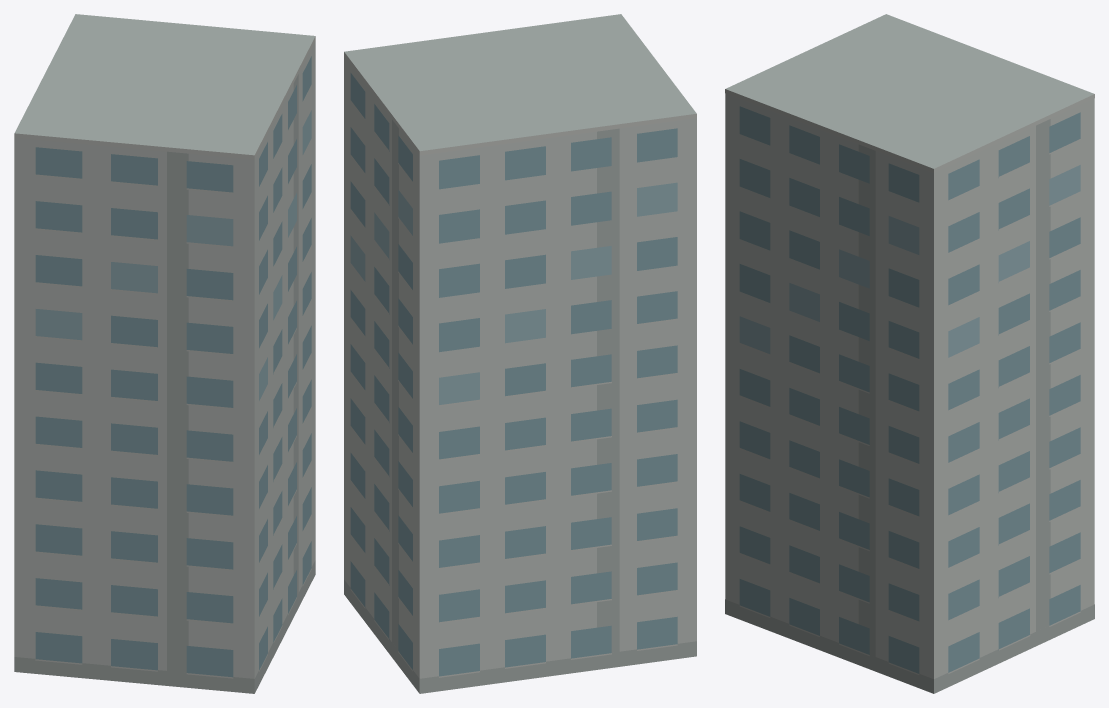
The model's file is residential-27d61a92-0b56-4a4a-b68c-cf102ebd9e90.glb.
3 renders of one model, left to right at view 1: azimuth 30°, elevation 25°; view 2: azimuth 150°, elevation 25°; view 3: azimuth 270°, elevation 25°, orthographic. The views are drawn at different scales.
Parts seen in each view (by area): view 1: residential-27d61a92-0b56-4a4a-b68c-cf102ebd9e90.tmp; view 2: residential-27d61a92-0b56-4a4a-b68c-cf102ebd9e90.tmp; view 3: residential-27d61a92-0b56-4a4a-b68c-cf102ebd9e90.tmp.
Part boxes in pixels (x1=…): residential-27d61a92-0b56-4a4a-b68c-cf102ebd9e90.tmp: x1=14, y1=14, x2=315, y2=693; residential-27d61a92-0b56-4a4a-b68c-cf102ebd9e90.tmp: x1=344, y1=14, x2=696, y2=693; residential-27d61a92-0b56-4a4a-b68c-cf102ebd9e90.tmp: x1=725, y1=14, x2=1094, y2=693.
Bounding box in the file's own units: 18.99 × 30 × 19.14.
